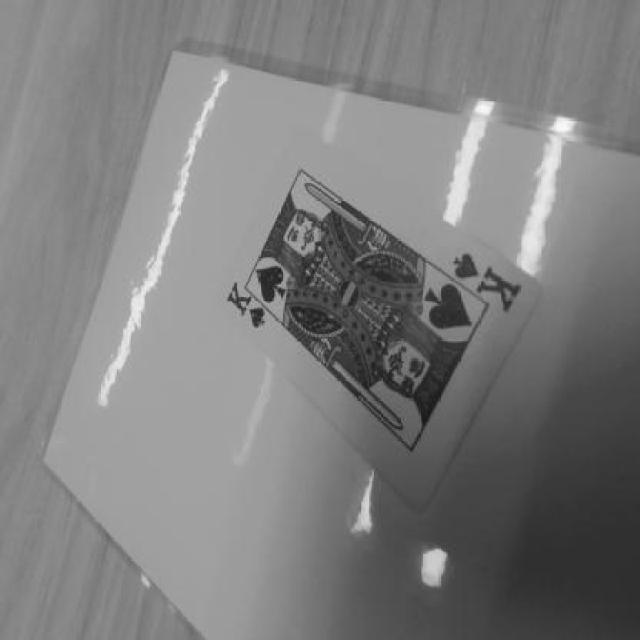KS: (443, 256, 534, 324), (211, 272, 277, 348)
